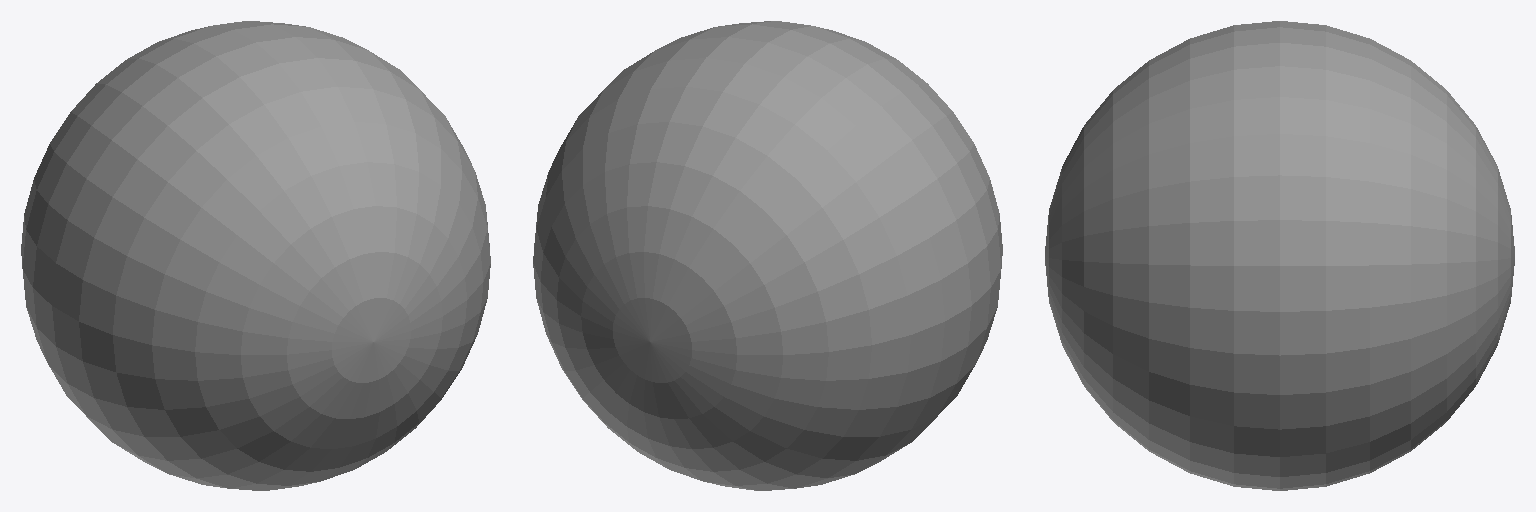
The model's file is Anchored_Pearl.obj.
3 renders of one model, left to right at view 1: azimuth 30°, elevation 25°; view 2: azimuth 150°, elevation 25°; view 3: azimuth 270°, elevation 25°, orthographic.
Parts seen in each view (by area): view 1: Sphere; view 2: Sphere; view 3: Sphere.
Boxes of the visible parts, x1=… form: Sphere: x1=21, y1=21, x2=490, y2=490; Sphere: x1=533, y1=21, x2=1002, y2=490; Sphere: x1=1045, y1=21, x2=1514, y2=490.
Size of the model in its own units: 1 by 1 by 1.